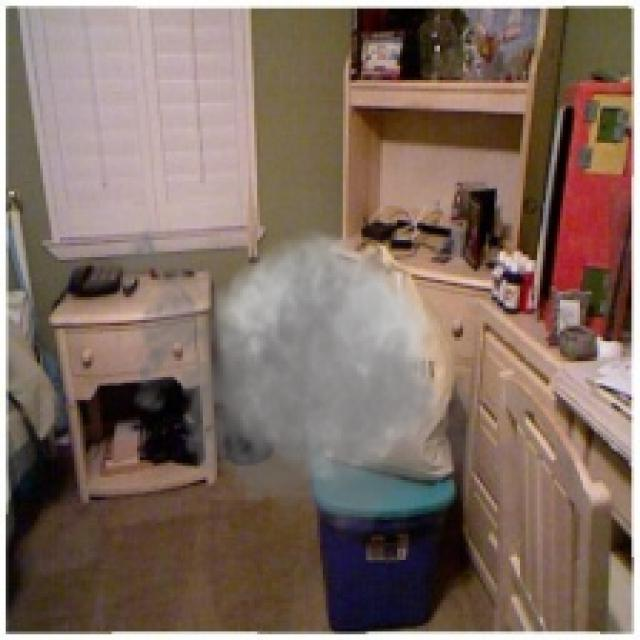smoke: (109, 163, 494, 554)
